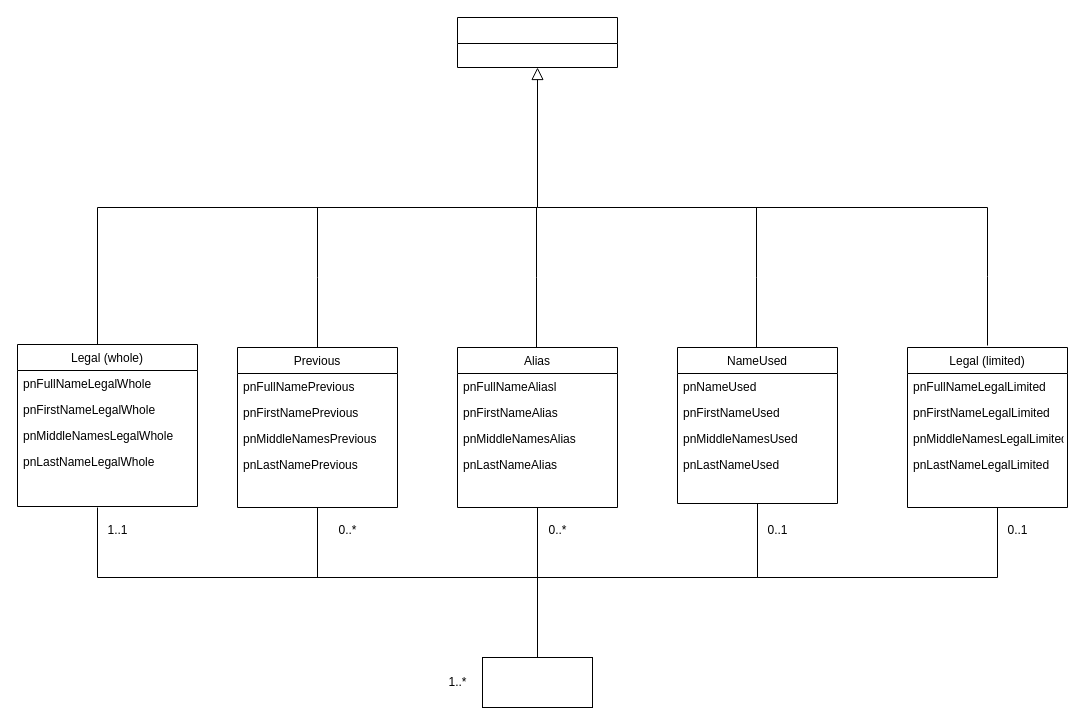
This 1085x725 diagram has some shape labels left out. The centre of each missing label's shape, as x and y in pixels:
Person: the point at 537,682
Person Name: the point at 537,42
